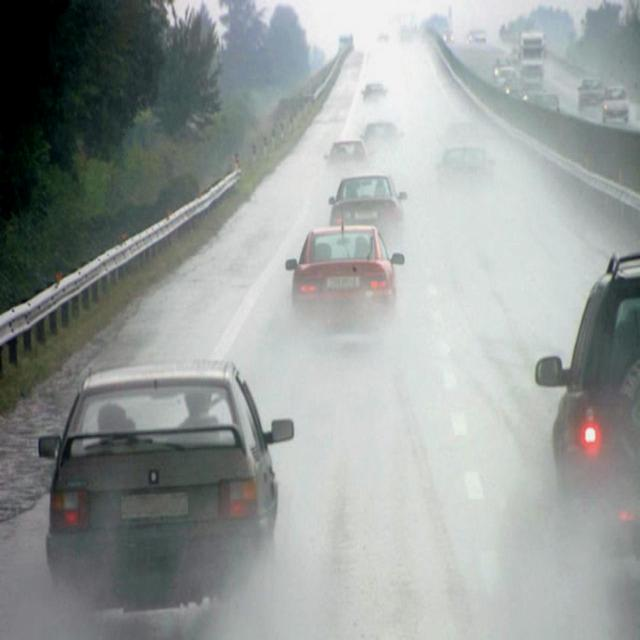Bus: (516, 19, 548, 91)
Car: (36, 351, 298, 608), (515, 248, 640, 556), (280, 209, 413, 335), (313, 171, 408, 250), (437, 130, 496, 228), (359, 98, 401, 169), (323, 124, 368, 186), (358, 62, 394, 120), (600, 83, 634, 132), (468, 16, 498, 58), (579, 70, 603, 120), (498, 62, 524, 98)
